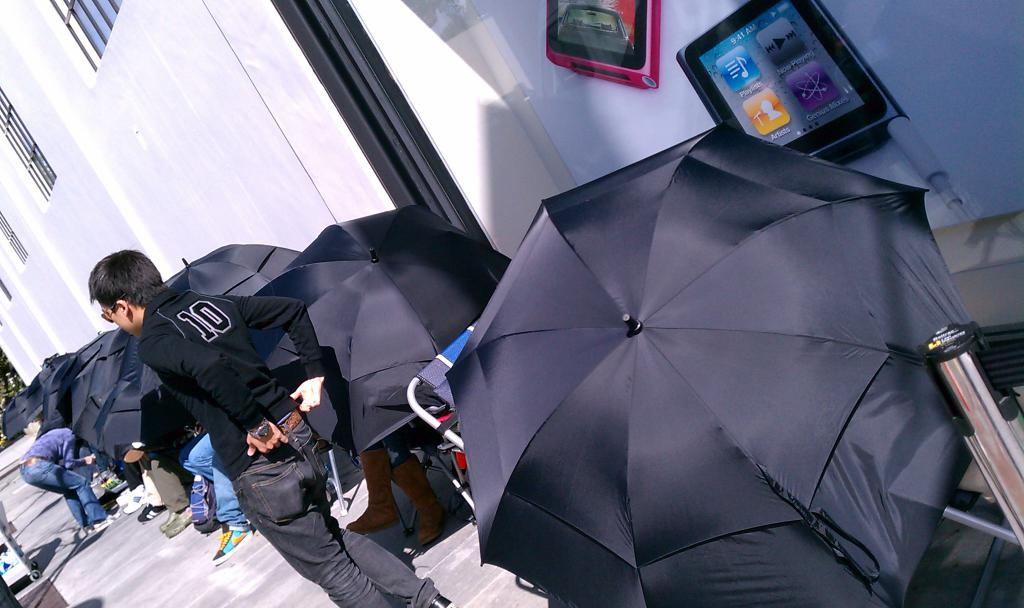Mobile-phone: (684, 8, 927, 136), (547, 1, 661, 93)
